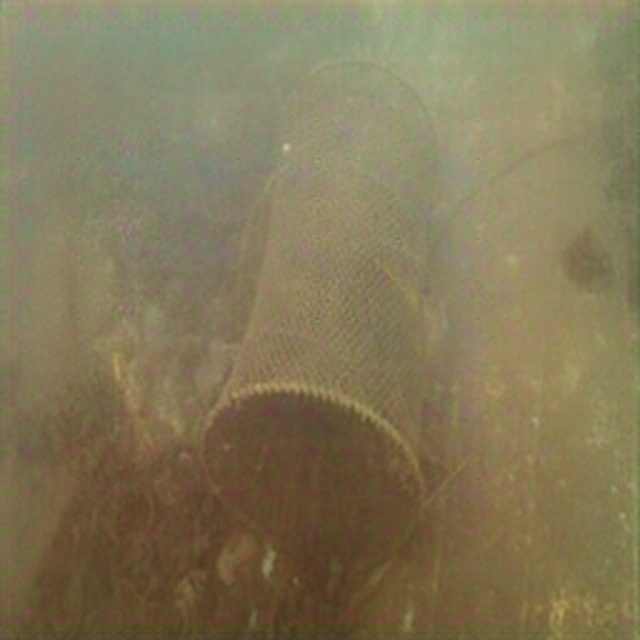mine: (200, 56, 441, 581)
